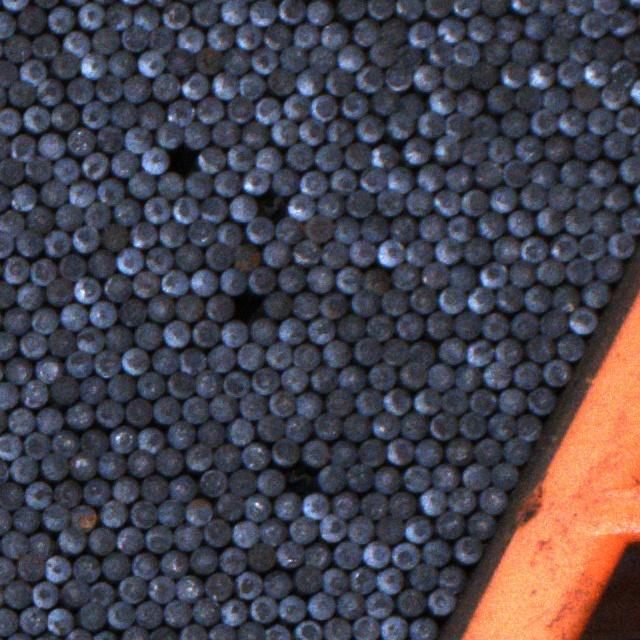tool: (50, 375, 78, 404), (352, 337, 380, 365), (581, 280, 609, 308), (203, 571, 231, 599), (428, 586, 456, 614), (318, 514, 346, 542), (94, 398, 122, 426), (390, 262, 418, 290), (110, 149, 138, 177), (206, 344, 234, 372), (578, 232, 606, 260), (174, 294, 202, 322), (172, 522, 200, 550), (263, 571, 291, 599), (55, 202, 83, 230), (54, 479, 82, 507), (240, 442, 268, 470), (96, 176, 124, 204), (552, 285, 580, 313), (102, 273, 130, 301), (42, 451, 70, 479), (16, 553, 44, 581), (435, 135, 462, 164), (608, 9, 637, 36), (586, 108, 614, 135), (416, 163, 444, 190), (24, 482, 52, 509), (376, 240, 404, 267), (139, 474, 166, 502), (185, 442, 212, 470), (252, 367, 280, 394), (372, 412, 400, 439), (404, 516, 432, 543), (158, 220, 185, 248), (221, 320, 248, 348), (166, 422, 194, 449), (196, 421, 224, 448), (409, 564, 437, 591), (248, 542, 275, 570), (510, 312, 538, 339), (205, 242, 232, 270), (277, 594, 304, 622), (355, 113, 382, 141), (524, 336, 552, 363), (368, 363, 396, 390), (501, 110, 528, 138), (388, 492, 415, 520), (549, 233, 577, 260), (478, 487, 506, 514), (336, 592, 364, 619), (47, 606, 74, 634), (106, 374, 134, 401), (188, 219, 216, 246), (248, 266, 275, 294), (350, 289, 377, 317), (34, 408, 62, 435), (152, 395, 179, 423), (234, 571, 261, 599), (464, 236, 491, 264), (376, 188, 404, 215), (474, 438, 502, 465), (332, 492, 359, 520), (482, 360, 510, 387), (169, 474, 196, 502), (205, 294, 232, 322), (286, 193, 314, 220), (80, 429, 108, 456), (156, 448, 183, 476), (367, 312, 394, 340), (338, 364, 366, 391), (92, 348, 119, 376), (358, 440, 386, 467), (0, 255, 28, 282), (608, 231, 636, 258), (25, 206, 52, 234), (2, 306, 29, 334), (408, 20, 436, 47), (358, 166, 386, 193), (100, 222, 127, 250), (312, 412, 340, 439), (356, 65, 384, 92), (4, 580, 31, 608), (263, 239, 291, 266), (13, 230, 41, 257), (79, 601, 106, 629), (293, 564, 320, 592), (400, 362, 428, 389), (88, 250, 115, 278), (69, 504, 96, 532), (304, 215, 332, 242), (117, 299, 144, 327), (512, 360, 540, 387), (514, 85, 542, 112), (384, 63, 412, 90), (59, 580, 88, 606), (249, 595, 276, 622), (21, 380, 48, 407), (354, 388, 381, 415), (330, 440, 357, 467), (271, 439, 298, 466), (82, 151, 109, 178), (334, 540, 361, 567), (414, 440, 441, 467), (144, 196, 171, 223), (380, 288, 407, 315), (407, 187, 434, 214), (273, 492, 300, 519), (192, 319, 219, 346), (160, 551, 187, 578), (476, 211, 503, 238), (361, 493, 388, 520), (326, 69, 353, 96), (199, 468, 226, 495), (190, 268, 217, 295), (239, 392, 266, 419), (503, 438, 530, 465), (302, 493, 329, 520), (173, 243, 200, 270), (395, 313, 422, 340), (229, 195, 256, 222), (393, 541, 420, 568), (206, 22, 233, 49), (260, 519, 287, 546), (20, 332, 47, 359), (119, 576, 146, 603), (436, 237, 463, 264), (278, 317, 305, 344), (196, 96, 223, 123), (290, 515, 317, 542), (538, 310, 565, 337), (581, 9, 608, 36), (72, 275, 99, 302), (172, 197, 199, 224), (65, 350, 92, 377), (587, 159, 614, 186), (101, 553, 128, 580), (136, 51, 163, 78), (544, 134, 571, 161), (127, 170, 154, 197), (107, 51, 134, 78), (185, 499, 212, 526), (439, 287, 466, 314), (337, 314, 364, 341), (192, 598, 219, 625), (228, 469, 255, 496), (366, 590, 393, 617), (106, 601, 133, 628), (444, 439, 471, 466), (397, 589, 424, 616), (536, 206, 563, 233), (223, 48, 250, 75), (309, 364, 336, 391), (372, 89, 399, 116), (20, 59, 47, 86), (257, 414, 284, 441), (327, 119, 354, 146), (319, 22, 346, 49), (48, 329, 75, 356), (604, 183, 631, 210), (217, 492, 244, 519), (151, 347, 178, 374), (487, 413, 514, 440), (226, 417, 253, 444), (104, 3, 131, 30), (65, 402, 92, 429), (58, 253, 85, 280), (97, 126, 124, 153), (287, 143, 314, 170), (526, 61, 553, 88), (468, 15, 495, 42), (436, 511, 463, 538), (6, 80, 33, 107), (35, 78, 62, 105), (166, 47, 193, 74), (345, 190, 372, 217), (18, 7, 45, 34), (425, 41, 452, 68), (369, 41, 396, 68), (382, 389, 410, 415), (307, 591, 333, 619), (542, 358, 570, 384), (494, 236, 520, 264), (478, 263, 506, 289), (8, 408, 34, 436), (559, 160, 585, 188), (92, 28, 120, 54), (454, 536, 482, 562), (124, 74, 150, 102), (122, 24, 148, 52), (524, 284, 550, 312), (322, 340, 348, 368), (503, 160, 529, 188), (190, 546, 216, 574), (146, 246, 172, 274), (321, 568, 347, 596), (432, 463, 458, 491), (568, 308, 596, 334), (44, 554, 70, 582), (214, 443, 240, 471), (426, 311, 452, 339), (16, 281, 42, 309), (153, 72, 179, 100), (530, 160, 556, 188), (264, 292, 292, 318), (264, 23, 292, 49), (195, 370, 221, 398), (67, 128, 93, 156), (129, 499, 155, 527), (594, 254, 622, 280), (342, 412, 368, 440), (117, 525, 143, 553), (462, 188, 488, 216), (515, 134, 541, 162), (445, 163, 471, 191), (324, 389, 352, 415), (376, 515, 402, 543), (134, 600, 160, 628), (460, 464, 488, 490), (10, 134, 36, 162), (274, 218, 302, 244), (410, 286, 436, 314), (320, 463, 346, 491), (416, 111, 444, 137), (58, 527, 86, 553), (296, 70, 324, 96), (48, 5, 74, 33), (486, 86, 512, 114), (447, 486, 475, 512), (418, 214, 446, 240), (468, 338, 494, 366), (466, 512, 494, 538), (361, 268, 389, 294), (590, 208, 618, 234), (528, 108, 554, 136), (126, 397, 152, 425), (52, 429, 78, 457), (601, 82, 627, 110), (352, 18, 378, 46), (294, 239, 322, 265), (185, 171, 211, 198), (209, 393, 235, 420), (276, 540, 303, 566), (122, 346, 148, 373), (270, 389, 296, 416), (5, 358, 32, 384), (556, 333, 582, 360), (111, 425, 137, 452), (537, 260, 564, 286), (148, 576, 174, 603), (146, 525, 172, 552), (427, 362, 453, 389), (548, 183, 574, 210), (441, 389, 468, 415), (182, 395, 208, 422), (40, 181, 67, 207), (158, 498, 184, 525), (237, 343, 263, 370), (231, 521, 258, 547), (458, 412, 484, 439), (81, 101, 107, 128), (162, 319, 188, 346), (272, 169, 299, 195), (309, 95, 336, 121), (60, 303, 86, 330), (117, 248, 143, 275), (136, 371, 162, 398), (346, 464, 372, 491), (162, 270, 188, 297), (405, 240, 432, 266), (307, 266, 333, 293), (129, 222, 155, 249), (11, 183, 37, 210), (142, 146, 169, 172), (499, 388, 526, 414), (174, 574, 200, 601), (333, 218, 359, 245), (80, 377, 106, 404), (519, 236, 546, 262), (403, 465, 430, 491), (22, 105, 48, 132), (245, 217, 271, 244), (90, 302, 117, 328), (294, 291, 320, 318), (488, 185, 515, 211), (565, 259, 592, 285), (98, 452, 125, 478), (340, 92, 366, 119), (73, 226, 99, 253), (430, 412, 457, 438), (385, 439, 412, 465), (13, 507, 40, 533), (418, 487, 444, 514), (526, 388, 553, 414), (23, 432, 49, 459), (164, 600, 190, 627), (414, 388, 441, 414), (293, 344, 320, 370), (212, 120, 239, 146), (348, 566, 374, 593), (213, 170, 240, 196), (430, 87, 456, 114), (299, 117, 325, 144), (469, 390, 496, 416), (320, 292, 347, 318), (266, 342, 292, 369), (382, 338, 408, 365), (228, 144, 254, 171), (20, 606, 46, 633), (74, 554, 100, 581), (11, 455, 37, 482), (244, 493, 270, 520), (41, 503, 68, 529), (454, 312, 480, 339), (466, 286, 492, 313), (178, 347, 204, 374), (39, 131, 65, 158), (343, 142, 369, 169), (376, 568, 403, 594), (181, 74, 208, 100), (31, 32, 58, 58), (454, 364, 480, 391), (519, 183, 545, 210), (497, 285, 523, 312), (594, 37, 620, 64), (338, 44, 365, 70), (576, 184, 602, 211), (243, 168, 269, 195), (280, 366, 307, 392), (278, 265, 304, 292), (128, 449, 154, 476), (162, 1, 188, 28), (490, 462, 517, 488), (300, 170, 326, 197), (305, 542, 331, 569), (52, 103, 78, 130), (30, 307, 57, 333), (494, 338, 521, 364), (220, 547, 247, 573), (404, 138, 431, 164), (235, 23, 261, 50), (148, 26, 174, 53), (109, 99, 135, 126), (167, 372, 194, 398), (284, 414, 310, 441), (421, 538, 448, 564), (132, 270, 158, 297), (524, 12, 550, 39), (105, 324, 131, 351), (53, 158, 79, 185), (511, 40, 538, 66), (507, 209, 533, 236), (456, 89, 482, 116), (564, 208, 590, 235), (482, 37, 508, 64), (556, 60, 582, 87), (250, 46, 276, 73), (435, 188, 461, 215), (267, 68, 294, 94), (391, 216, 417, 243), (308, 46, 334, 73), (314, 144, 340, 171), (138, 102, 164, 129), (2, 36, 29, 62), (157, 121, 183, 148), (448, 216, 474, 243), (198, 147, 224, 174), (34, 357, 60, 384), (223, 371, 250, 397), (84, 479, 110, 506), (494, 15, 520, 42), (66, 76, 92, 103), (84, 201, 110, 228), (69, 451, 95, 478), (552, 12, 578, 39), (282, 94, 308, 121), (386, 112, 413, 138), (112, 198, 138, 225), (202, 518, 228, 545), (569, 82, 596, 108), (445, 113, 471, 140), (196, 47, 222, 74), (472, 115, 498, 142), (380, 19, 406, 46), (348, 516, 373, 544), (615, 105, 640, 133), (212, 72, 237, 100), (30, 258, 55, 286), (157, 172, 183, 198), (94, 76, 120, 102), (131, 552, 157, 578), (602, 132, 628, 158), (423, 263, 449, 289), (258, 469, 284, 495), (113, 476, 139, 502), (440, 338, 466, 364), (44, 278, 70, 304), (362, 540, 388, 566), (574, 132, 600, 158), (219, 269, 245, 295), (24, 156, 50, 182), (336, 267, 362, 293), (331, 169, 357, 195), (556, 110, 582, 136), (200, 197, 226, 223), (68, 182, 94, 208), (449, 264, 475, 290), (88, 528, 114, 554), (125, 126, 151, 152), (270, 119, 296, 145), (78, 327, 104, 353), (228, 97, 254, 123), (134, 322, 160, 348), (349, 240, 375, 266), (316, 192, 342, 218), (250, 318, 276, 344), (542, 38, 568, 64), (584, 59, 610, 85), (80, 52, 106, 78), (296, 393, 322, 419), (138, 428, 164, 454), (30, 582, 56, 608), (176, 26, 202, 52), (452, 40, 478, 66), (221, 600, 247, 626), (509, 262, 535, 288), (438, 17, 464, 43), (542, 87, 568, 113), (486, 136, 512, 162), (516, 414, 542, 440), (132, 4, 158, 30), (279, 44, 305, 70), (62, 31, 88, 57), (238, 74, 264, 100), (308, 317, 334, 343), (301, 441, 327, 467), (242, 121, 268, 147), (371, 144, 397, 170), (234, 244, 260, 270), (42, 231, 68, 257), (362, 216, 388, 242), (499, 62, 525, 88), (53, 53, 79, 79), (475, 162, 501, 188), (167, 100, 193, 126), (443, 62, 469, 88), (611, 60, 637, 86), (482, 312, 507, 339), (401, 411, 426, 438), (100, 499, 125, 526), (0, 530, 25, 557), (192, 0, 219, 25), (374, 465, 399, 492), (256, 96, 281, 123), (321, 240, 346, 267), (256, 148, 283, 173), (471, 61, 496, 88), (411, 341, 436, 368), (380, 616, 408, 640), (438, 566, 466, 590), (414, 64, 439, 90), (387, 167, 412, 193), (79, 2, 104, 28), (569, 38, 594, 64), (183, 122, 208, 148), (149, 296, 174, 322), (294, 22, 319, 48), (217, 221, 243, 246), (351, 616, 378, 640), (248, 0, 275, 24), (221, 0, 248, 24), (461, 136, 485, 163), (398, 93, 423, 118), (90, 582, 116, 606), (307, 0, 333, 24), (0, 208, 23, 235), (324, 618, 352, 640), (28, 532, 52, 557), (0, 481, 22, 508), (618, 156, 640, 183), (411, 618, 438, 640), (277, 0, 303, 22), (0, 157, 21, 184), (294, 620, 322, 640), (396, 0, 423, 20), (236, 621, 264, 640), (337, 0, 365, 19), (0, 434, 20, 460), (0, 108, 20, 134), (621, 206, 640, 233), (367, 0, 394, 18), (425, 0, 453, 17), (0, 60, 17, 87), (623, 34, 640, 61), (178, 624, 206, 640), (0, 382, 17, 408), (482, 0, 509, 16), (452, 0, 479, 16), (0, 606, 15, 634), (265, 624, 291, 640), (208, 624, 234, 640), (0, 331, 15, 358), (0, 281, 15, 308), (0, 555, 14, 583), (122, 625, 148, 640), (592, 0, 619, 14), (0, 11, 14, 38), (149, 626, 176, 640), (537, 0, 563, 14), (565, 0, 591, 14), (0, 229, 13, 257), (64, 628, 92, 640), (511, 0, 538, 12), (628, 78, 640, 104), (1, 0, 28, 11), (0, 506, 10, 534), (93, 629, 118, 640), (0, 182, 9, 211), (0, 133, 9, 160), (631, 132, 640, 158), (32, 0, 59, 8), (0, 458, 8, 484), (32, 633, 60, 640), (5, 633, 31, 640), (633, 180, 640, 206), (0, 86, 6, 112), (0, 407, 5, 436), (148, 0, 172, 6), (118, 0, 146, 5), (60, 0, 88, 5)
tool_b: (284, 465, 318, 494)
void: (231, 294, 262, 322), (168, 146, 199, 173)
